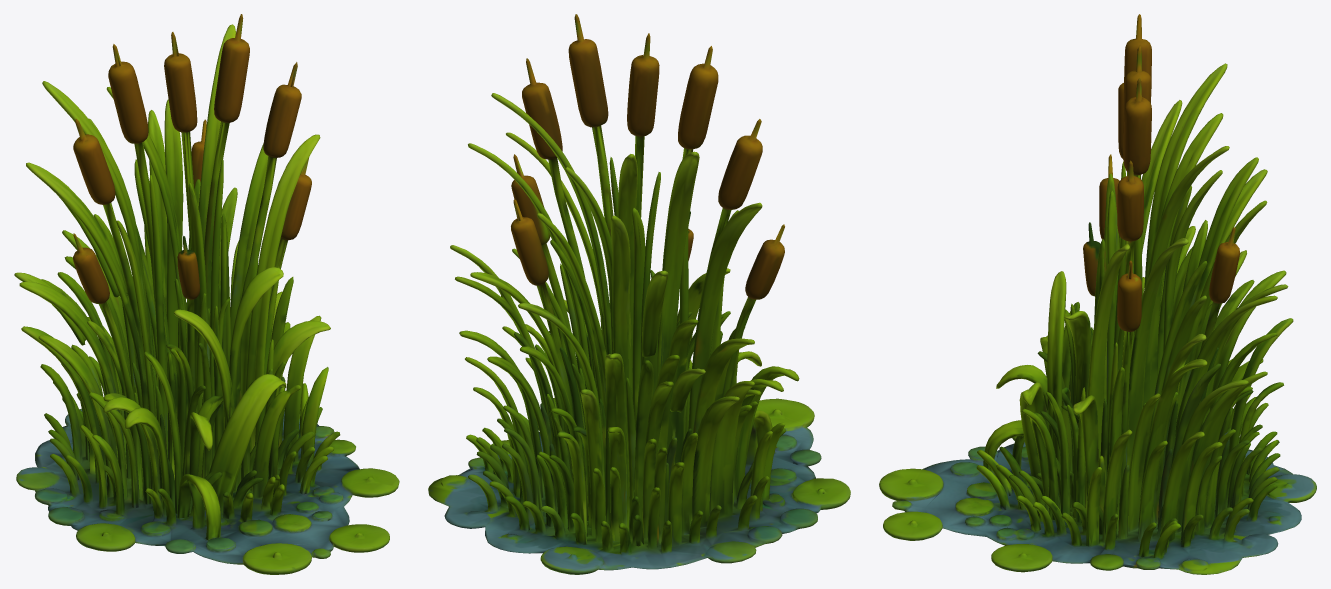
File: cattails2.glb
The picture shows the model from 3 angles, left to right: view 1: azimuth 30°, elevation 25°; view 2: azimuth 150°, elevation 25°; view 3: azimuth 270°, elevation 25°; orthographic projection. The views are drawn at different scales.
Parts seen in each view (by area): view 1: node_0; view 2: node_0; view 3: node_0.
Boxes of the visible parts, bbox=[...] form: node_0: bbox=[14, 14, 399, 574]; node_0: bbox=[428, 14, 850, 574]; node_0: bbox=[879, 14, 1316, 574].
Bounding box in the file's own units: 0.651 × 0.8952 × 0.7883.
1 material, 1 textured.
